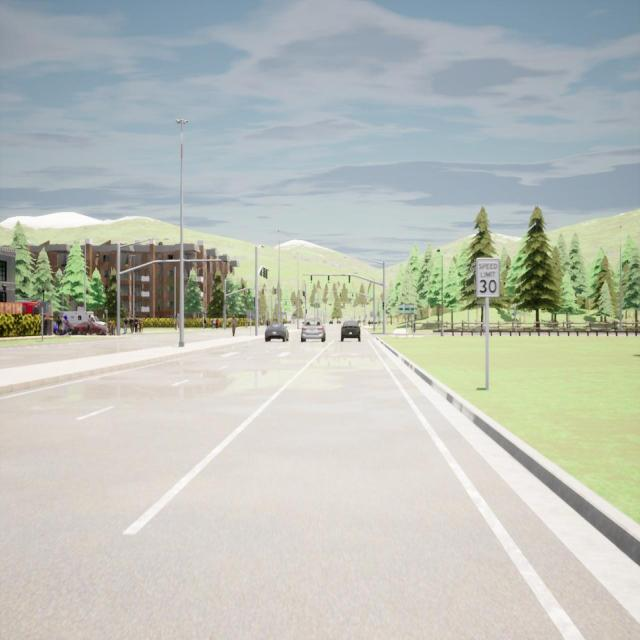Pedestrian: (86, 313, 92, 336), (108, 317, 115, 336), (56, 316, 61, 336), (139, 316, 144, 334), (232, 315, 236, 337), (123, 318, 128, 335), (130, 315, 134, 334), (134, 316, 138, 333), (175, 316, 179, 331), (216, 318, 219, 329), (204, 317, 206, 328)
Traffic_Signs: (476, 258, 500, 296), (399, 304, 414, 314), (40, 302, 46, 314)
Vehicle: (61, 311, 108, 335), (301, 318, 326, 342), (265, 322, 289, 343), (340, 320, 360, 342), (329, 320, 333, 325)
traffic_light: (266, 269, 268, 279), (260, 267, 262, 276), (263, 268, 265, 277), (310, 275, 312, 283), (348, 275, 350, 283), (262, 288, 264, 295), (302, 290, 304, 296), (248, 289, 250, 295), (339, 292, 341, 297), (274, 289, 276, 294), (383, 302, 384, 310), (328, 275, 329, 283), (352, 293, 354, 297), (306, 309, 307, 314), (304, 292, 305, 296)
